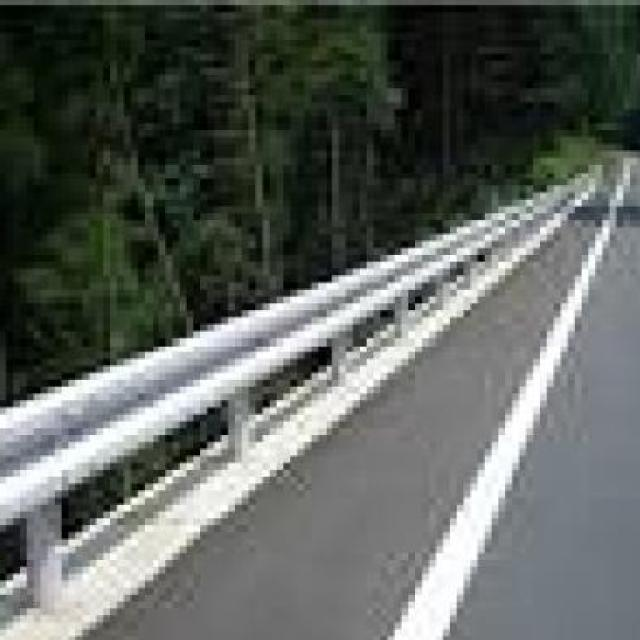Guard rail: (0, 163, 600, 640)
